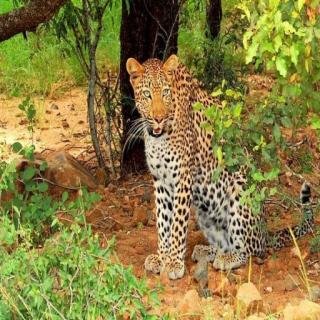Leopard: (102, 44, 320, 306)
